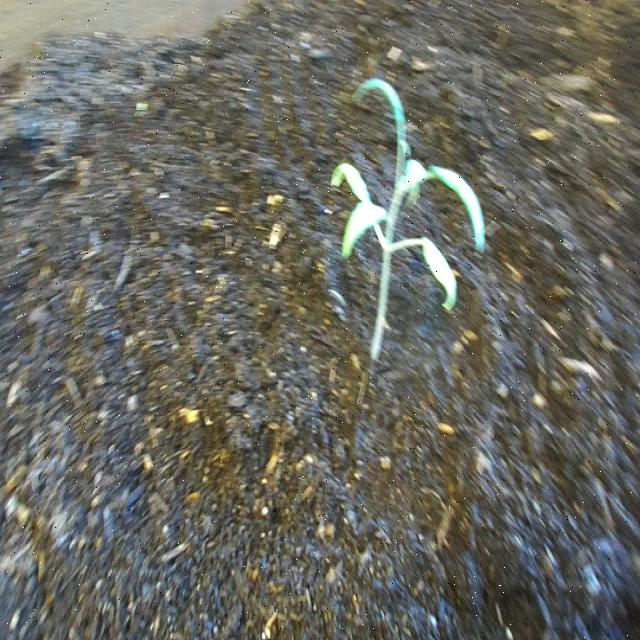Healthy: (326, 69, 490, 373)
